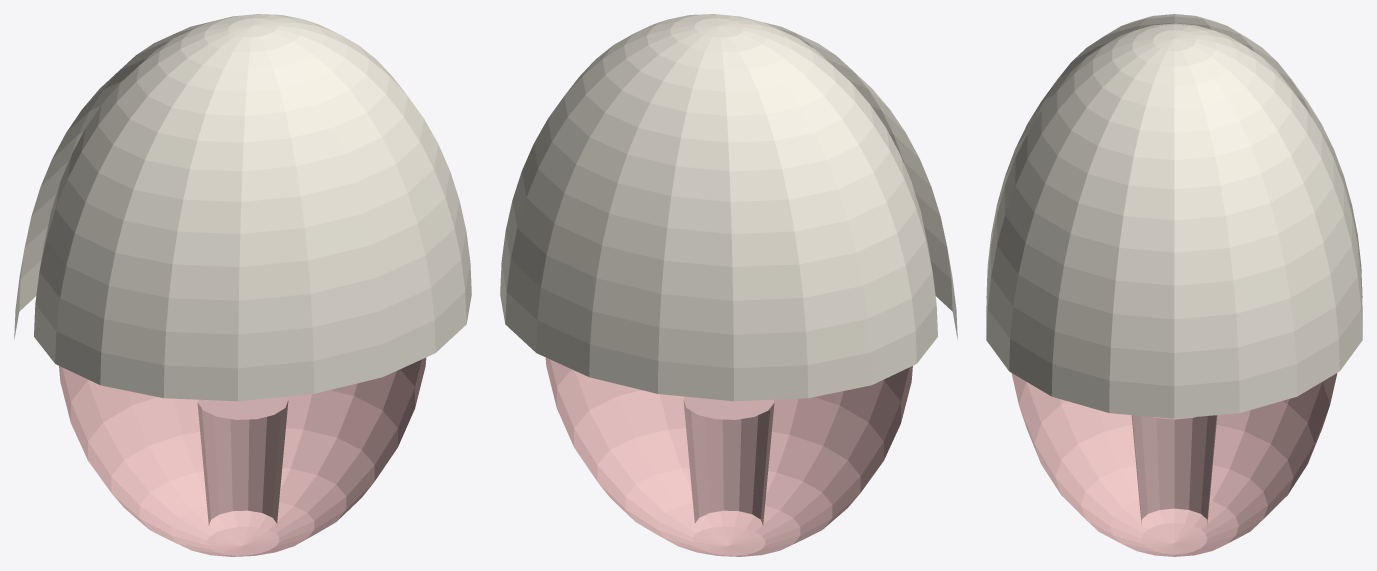
File: glowa.glb
3 renders of one model, left to right at view 1: azimuth 30°, elevation 25°; view 2: azimuth 150°, elevation 25°; view 3: azimuth 270°, elevation 25°, orthographic.
Visible parts, largest first — view 1: skull_right, brain, brainstem, skull_left; view 2: skull_right, brain, brainstem, skull_left; view 3: skull_right, brain, brainstem, skull_left.
Part boxes in pixels (box(x1,y1,x2,y2)): skull_right: box(34, 14, 471, 401); brain: box(59, 357, 426, 556); brainstem: box(197, 396, 288, 525); skull_left: box(14, 22, 208, 339); skull_right: box(500, 14, 937, 401); brain: box(545, 357, 912, 556); brainstem: box(683, 396, 774, 525); skull_left: box(763, 22, 957, 339); skull_right: box(986, 23, 1362, 418); brain: box(1011, 373, 1337, 556); brainstem: box(1131, 415, 1217, 523); skull_left: box(986, 14, 1362, 297).
Size of the model in its own units: 0.21 by 0.25 by 0.1674.
